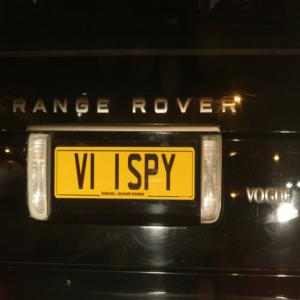Vehicle-registration-plate: (55, 146, 195, 201)
